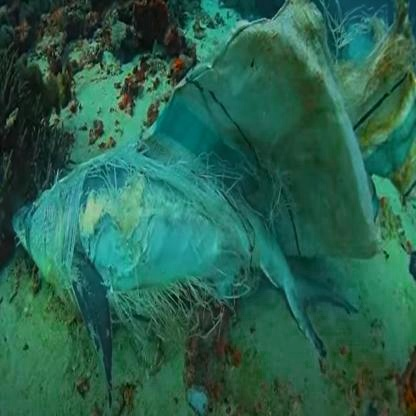plastic: (128, 81, 365, 346)
